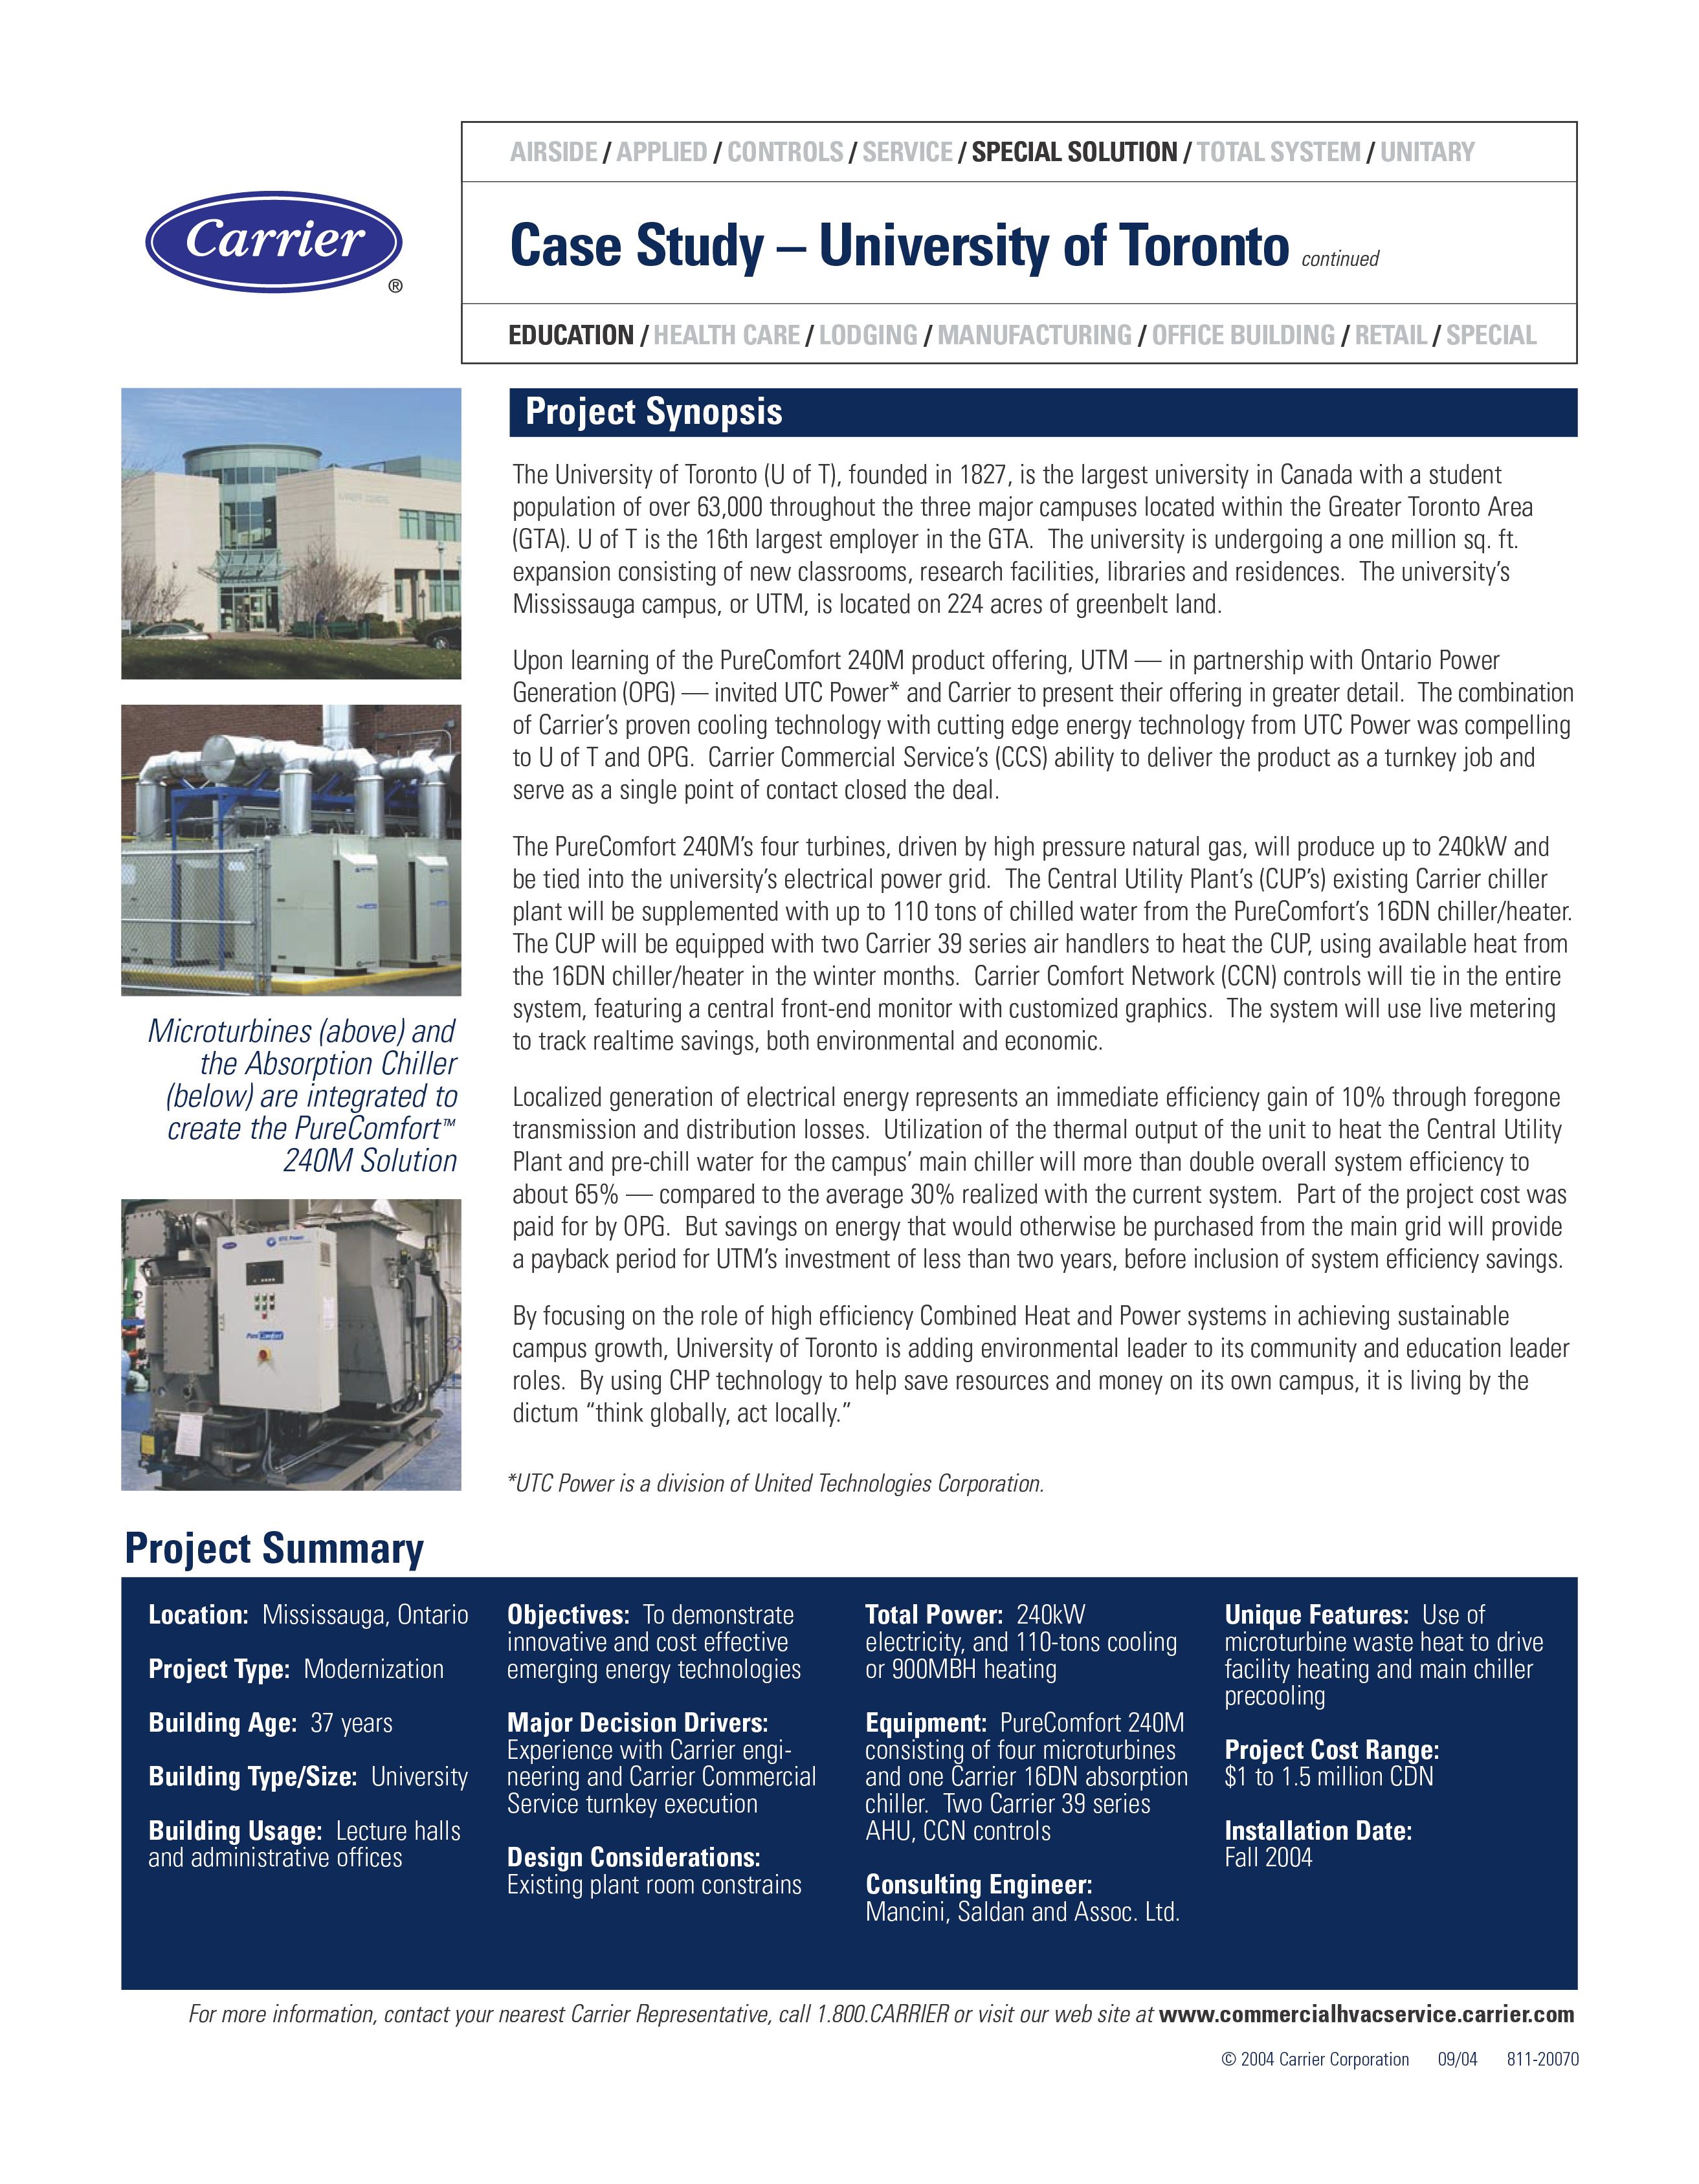figure: (119, 385, 456, 998), (122, 1205, 459, 1489), (144, 190, 404, 298)
section: (513, 218, 1293, 273), (131, 1519, 433, 1574), (511, 392, 818, 443)
text: (523, 837, 1566, 1053), (516, 1083, 1575, 1267), (511, 645, 1575, 801), (516, 452, 1539, 606), (511, 1301, 1571, 1418), (144, 1014, 459, 1177), (865, 1707, 1197, 1844), (513, 321, 1534, 353), (516, 1707, 809, 1815), (1234, 1606, 1539, 1707), (507, 135, 1488, 163), (511, 1462, 1059, 1507), (869, 1601, 1181, 1677), (516, 1604, 798, 1688), (873, 1876, 1174, 1930), (516, 1844, 814, 1895), (1233, 1737, 1456, 1803), (151, 1822, 456, 1867), (151, 1597, 488, 1633), (144, 1649, 436, 1688), (1229, 1819, 1421, 1876), (158, 1764, 465, 1796), (154, 1707, 378, 1737)
